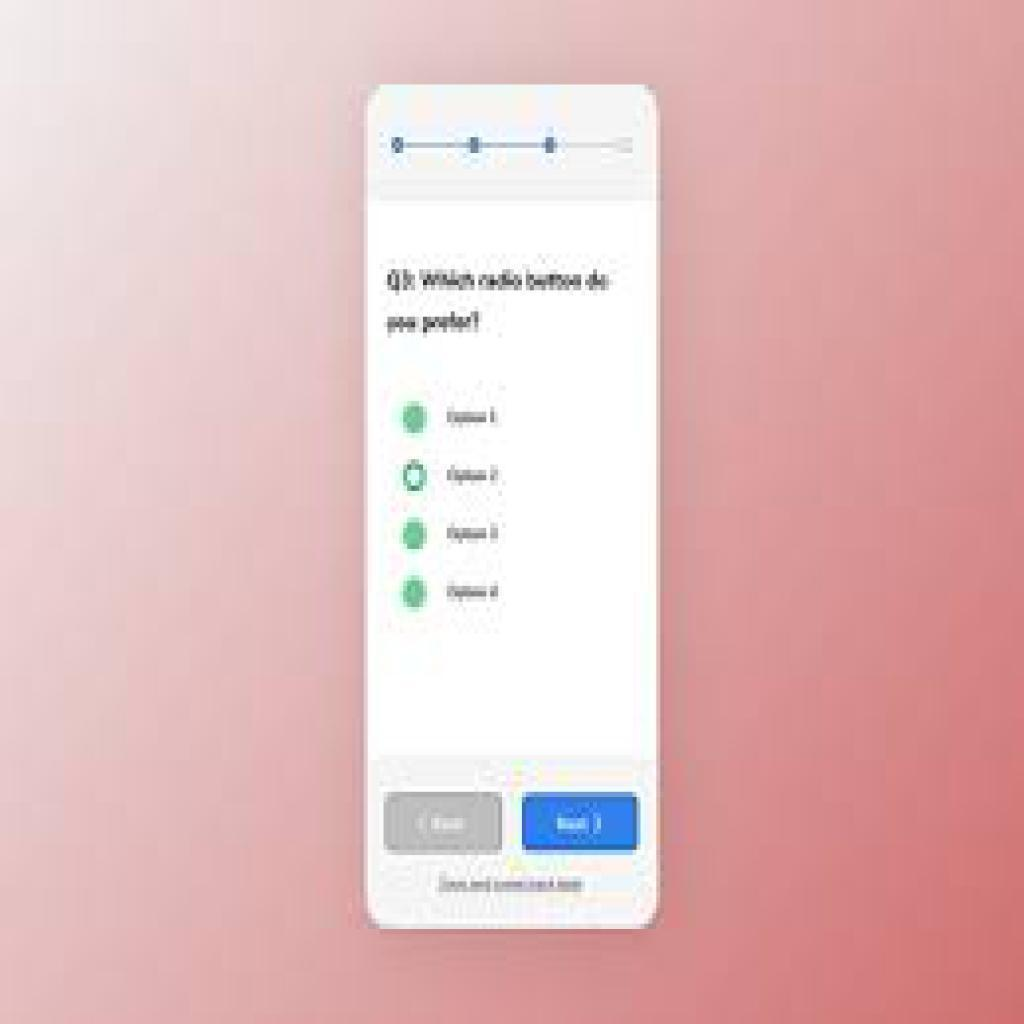button: (382, 790, 505, 855), (517, 793, 641, 855)
radio: (401, 573, 431, 614), (400, 403, 433, 439), (402, 458, 431, 496), (401, 517, 430, 553)
